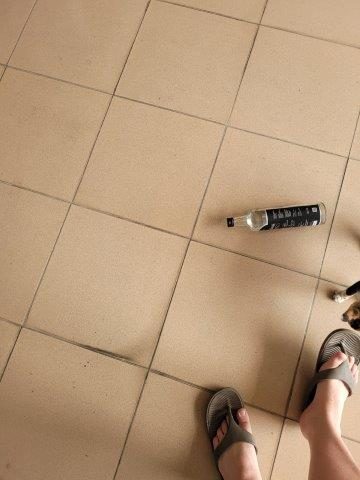botolkaca: (229, 203, 327, 230)
